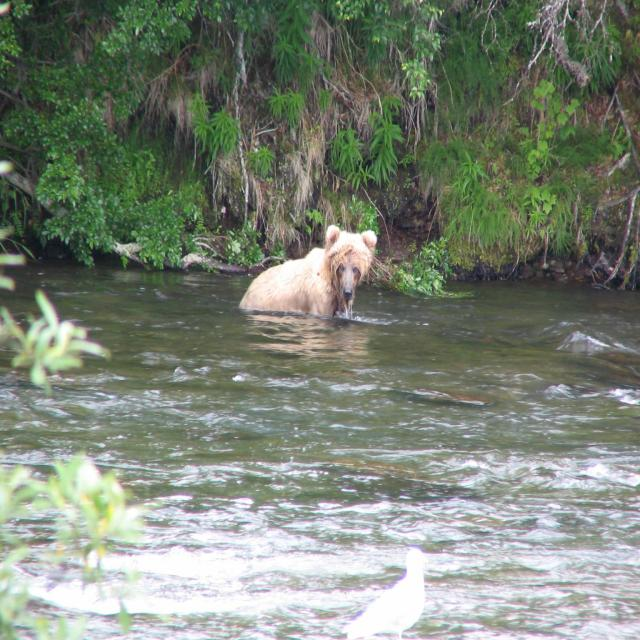bear face: (239, 223, 378, 317)
